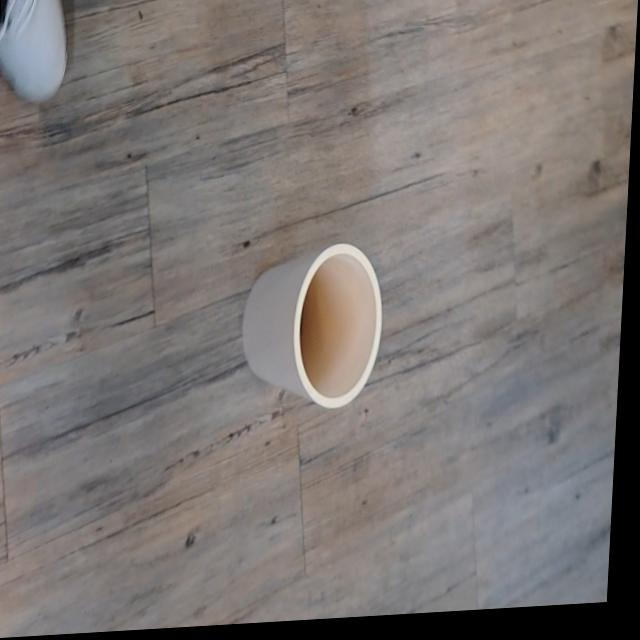CORAL: (227, 207, 406, 459)
